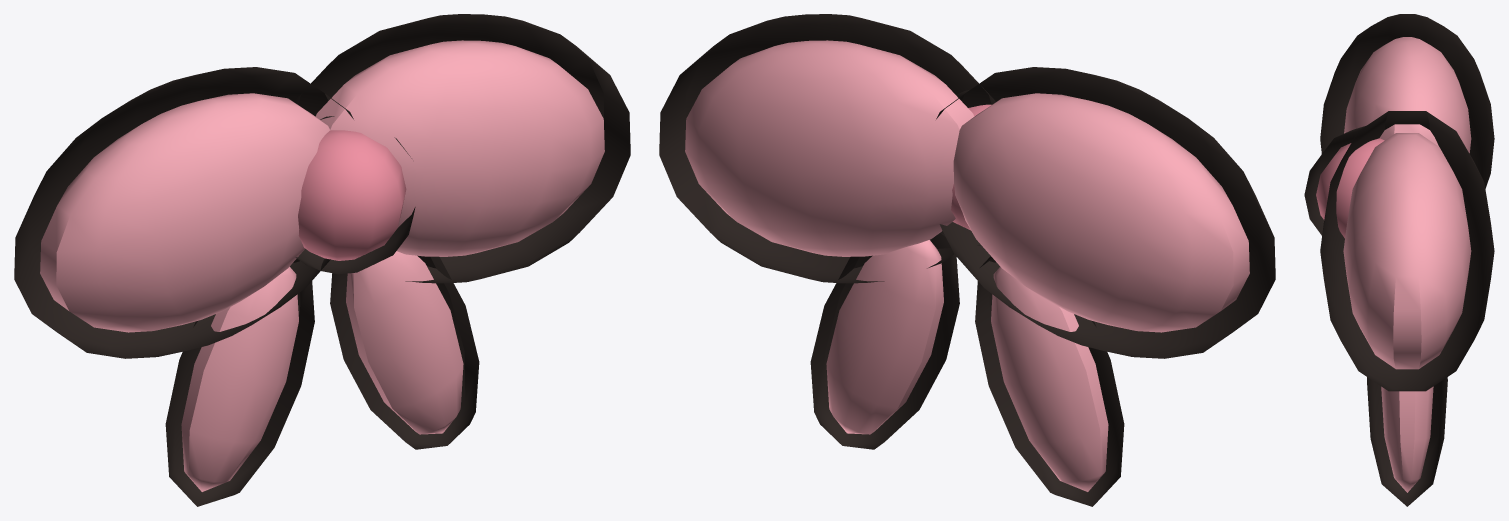
File: col_pink.fbx
3 views of the same model, side by side, from view 1: azimuth 30°, elevation 25°; view 2: azimuth 150°, elevation 25°; view 3: azimuth 270°, elevation 25° (orthographic). The views are drawn at different scales.
Visible parts, largest first — view 1: col_pink_C_F4A7B4, col_pink_Outline, col_pink_C_E88A9C; view 2: col_pink_C_F4A7B4, col_pink_Outline; view 3: col_pink_C_F4A7B4, col_pink_Outline, col_pink_C_E88A9C.
Boxes of the visible parts, x1,y1,x2,y2 form: col_pink_C_F4A7B4: (40, 40, 604, 491); col_pink_Outline: (14, 14, 630, 506); col_pink_C_E88A9C: (298, 130, 406, 260); col_pink_C_F4A7B4: (685, 40, 1249, 491); col_pink_Outline: (659, 14, 1275, 506); col_pink_C_F4A7B4: (1343, 37, 1471, 492); col_pink_Outline: (1304, 14, 1494, 506); col_pink_C_E88A9C: (1316, 138, 1384, 238).
Size of the model in its own units: 0.3587 by 0.2467 by 0.1145.
